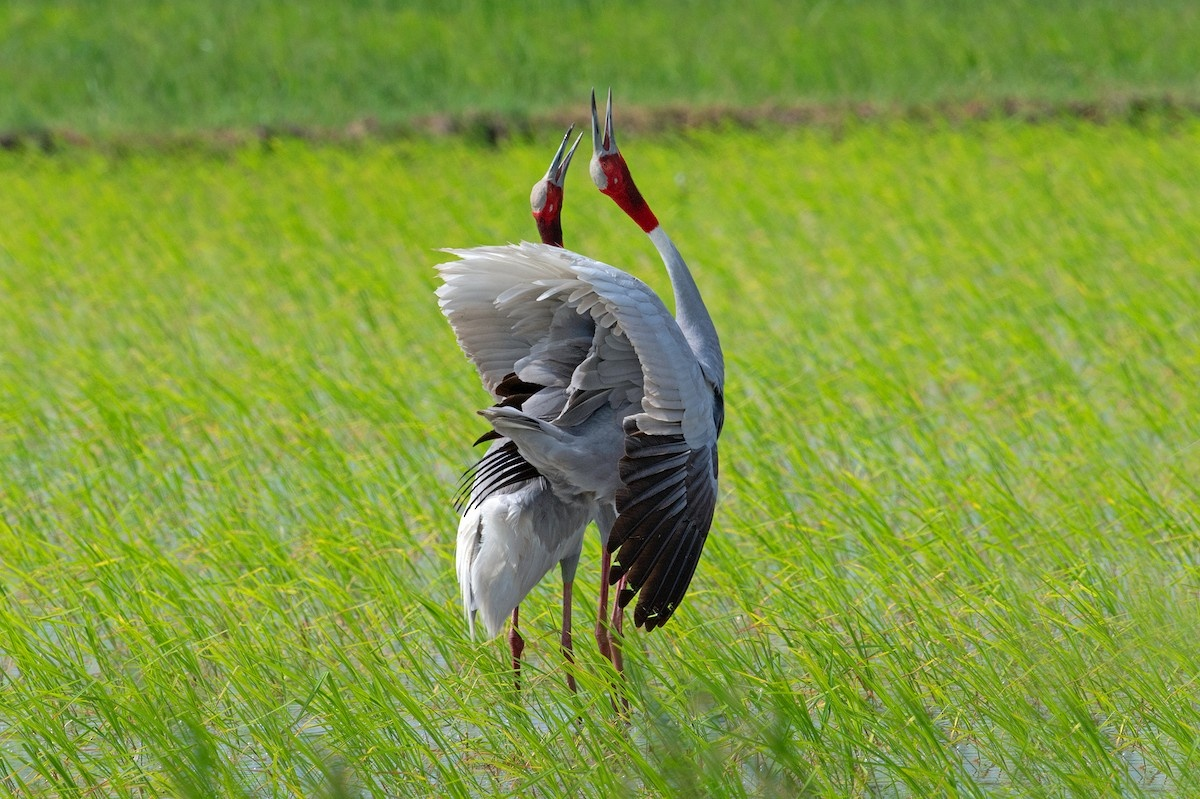crane: (582, 84, 730, 714), (454, 126, 585, 716)
